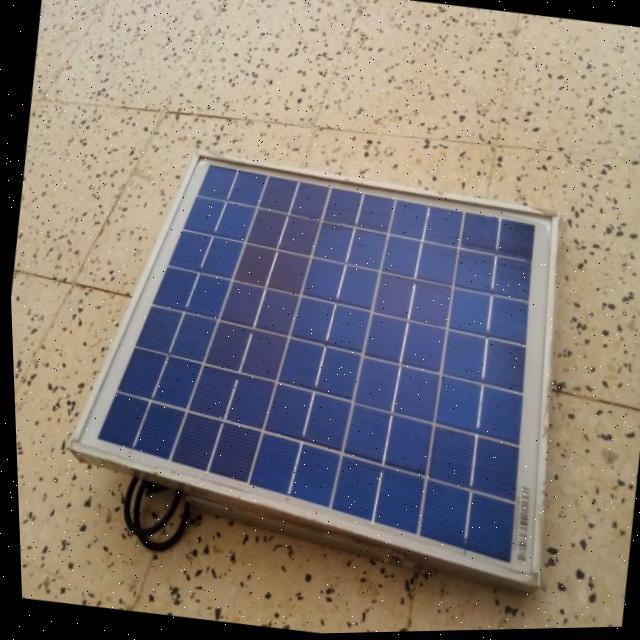Normal Solar Panel: (46, 132, 590, 596)
